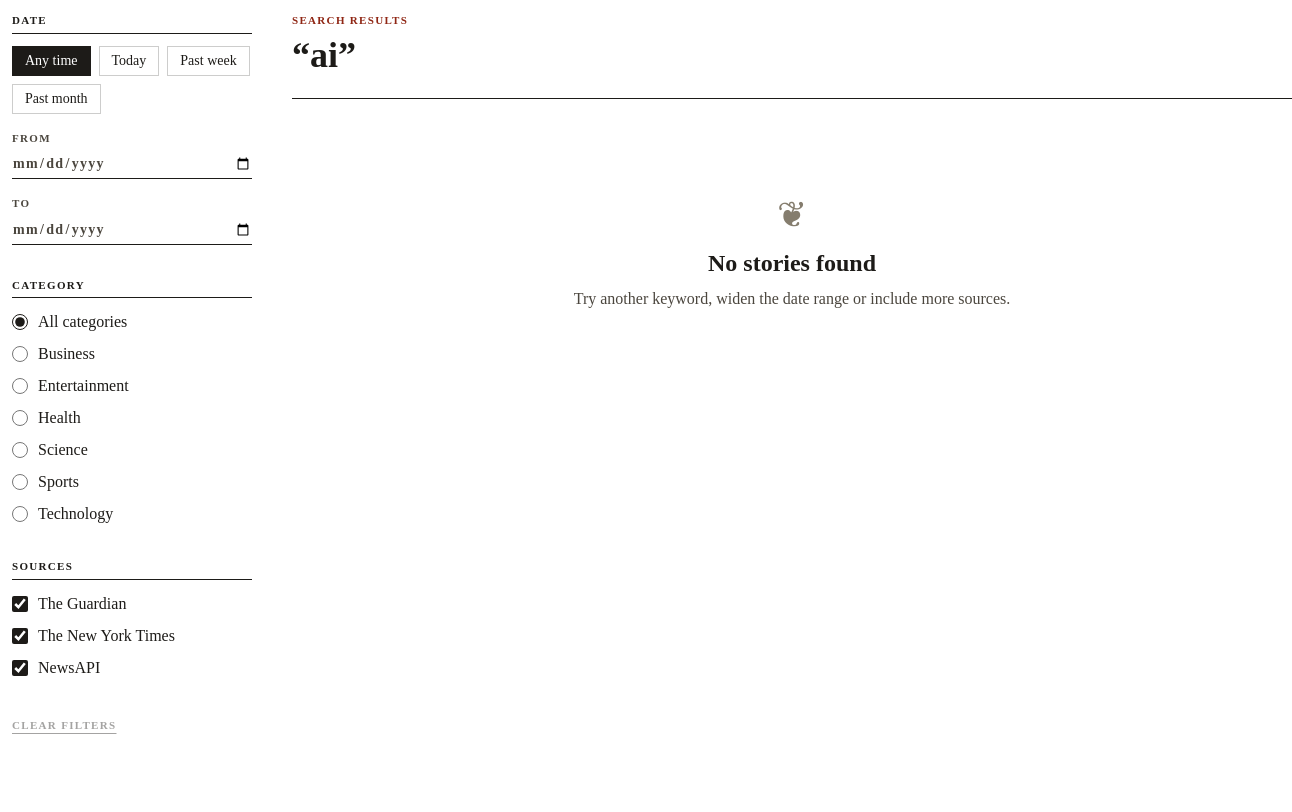
SearchPage › applies a category filter and records it in the URL
The width and height of the screenshot is (1292, 812).
Step 1. Click the radio button labelled "Technology" → (20, 514), box [12, 506, 28, 522]
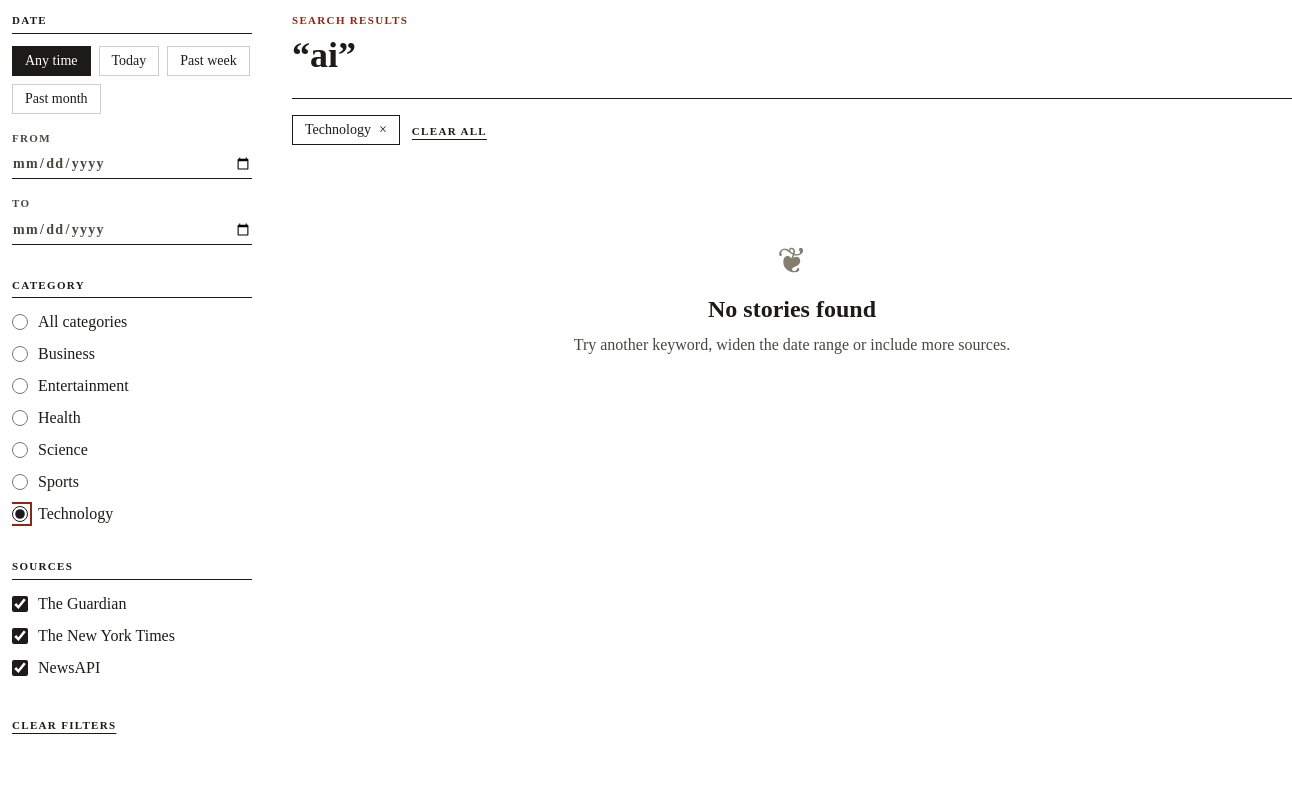
Expected: the button with aria-label "Remove filter: Technology" is shown, [292, 114, 400, 144]
